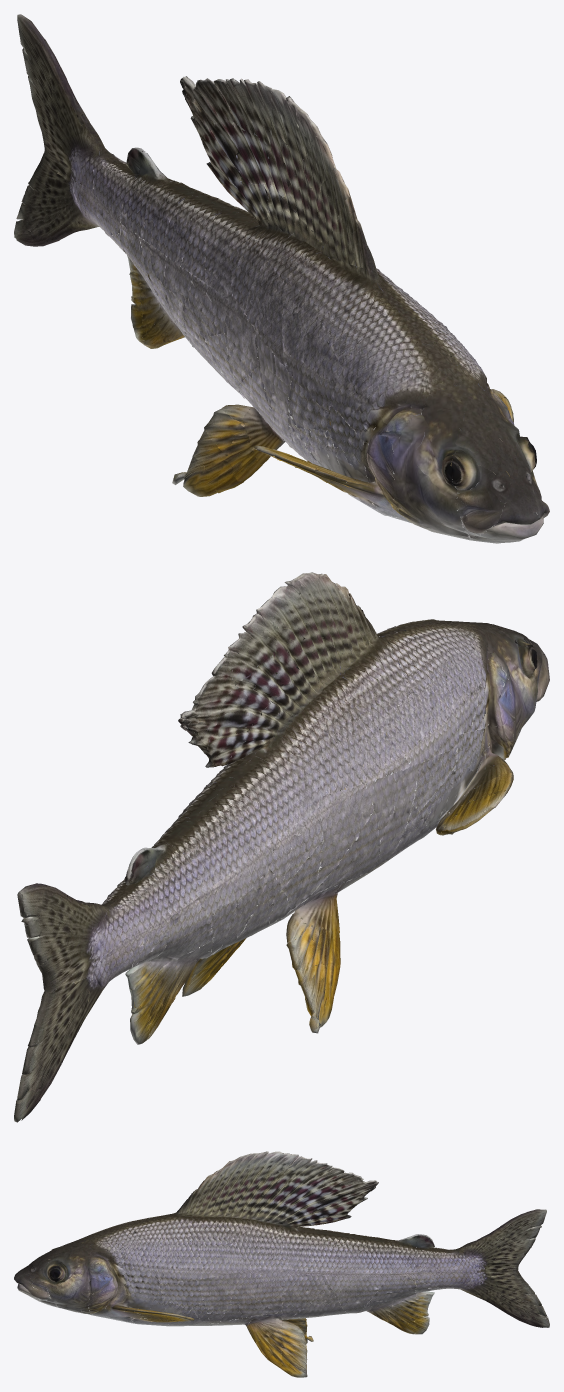
Rendered from lipien.glb.
The picture shows the model from 3 angles, top to bottom: view 1: azimuth 30°, elevation 25°; view 2: azimuth 150°, elevation 25°; view 3: azimuth 270°, elevation 25°; orthographic projection. The views are drawn at different scales.
Parts seen in each view (by area): view 1: Mesh_0; view 2: Mesh_0; view 3: Mesh_0.
Part boxes in pixels (<box>): Mesh_0: <box>14,14,549,543</box>; Mesh_0: <box>14,572,549,1122</box>; Mesh_0: <box>14,1151,549,1377</box>.
Bounding box in the file's own units: 0.5096 × 0.8214 × 1.9.
1 material, 1 textured.
